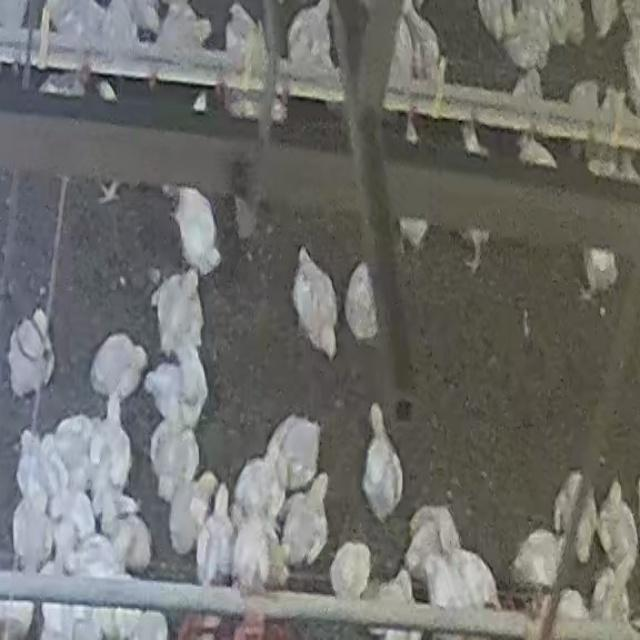chicken: (293, 249, 342, 363), (360, 402, 403, 524), (172, 184, 223, 276), (429, 549, 500, 614), (280, 473, 330, 564), (169, 468, 221, 554), (154, 271, 206, 356), (556, 469, 599, 564), (7, 309, 52, 399), (88, 333, 146, 402), (151, 418, 199, 501), (198, 481, 234, 587), (271, 414, 323, 487), (233, 447, 285, 519), (598, 478, 640, 566), (233, 520, 285, 588), (94, 393, 130, 488), (408, 507, 454, 579), (286, 0, 334, 66), (15, 487, 53, 568), (344, 263, 382, 342), (100, 514, 149, 574), (595, 558, 640, 622), (55, 416, 96, 486), (512, 533, 565, 587), (177, 341, 210, 426), (63, 534, 120, 582), (506, 6, 548, 67), (159, 0, 212, 48), (143, 359, 183, 417), (331, 539, 368, 600), (45, 0, 106, 37), (576, 246, 618, 296), (225, 0, 262, 55), (112, 0, 160, 34), (18, 429, 42, 496), (478, 0, 515, 43), (101, 0, 139, 38), (569, 78, 600, 114), (592, 0, 619, 39)
